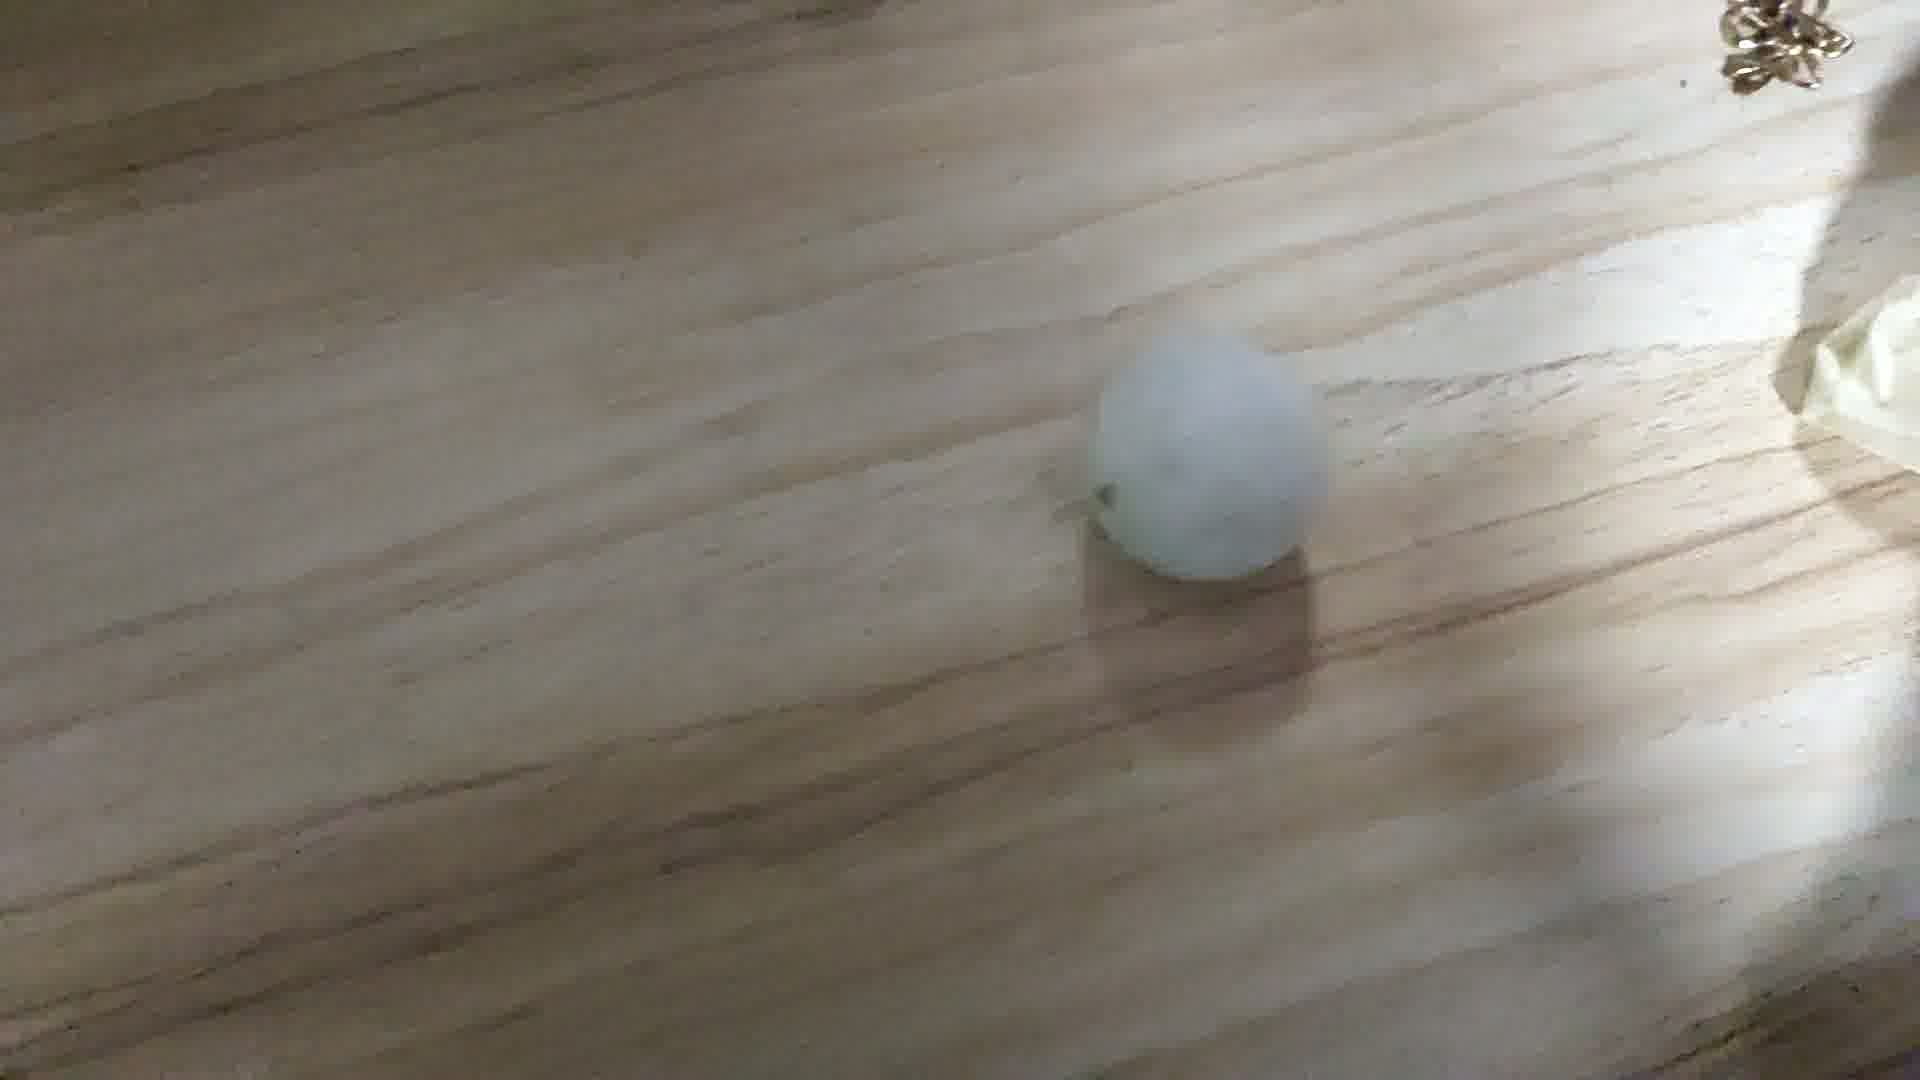Ball: (1096, 332, 1338, 585)
